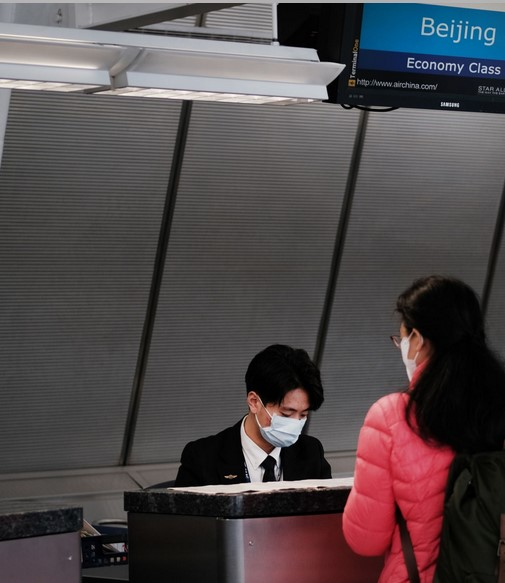face_with_mask: (394, 274, 481, 376), (244, 344, 323, 452)
